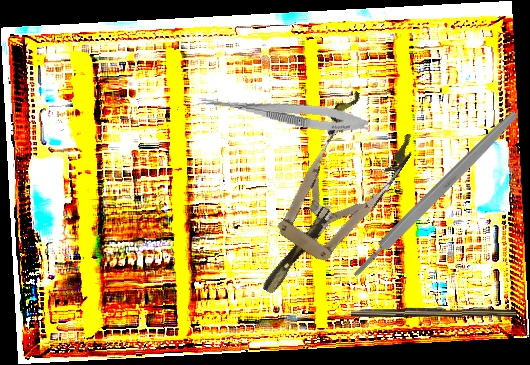Micro Scissor: (196, 90, 370, 137)
Scalpel Handle: (349, 108, 521, 280), (350, 304, 517, 320)
Speculum: (228, 86, 424, 316)
